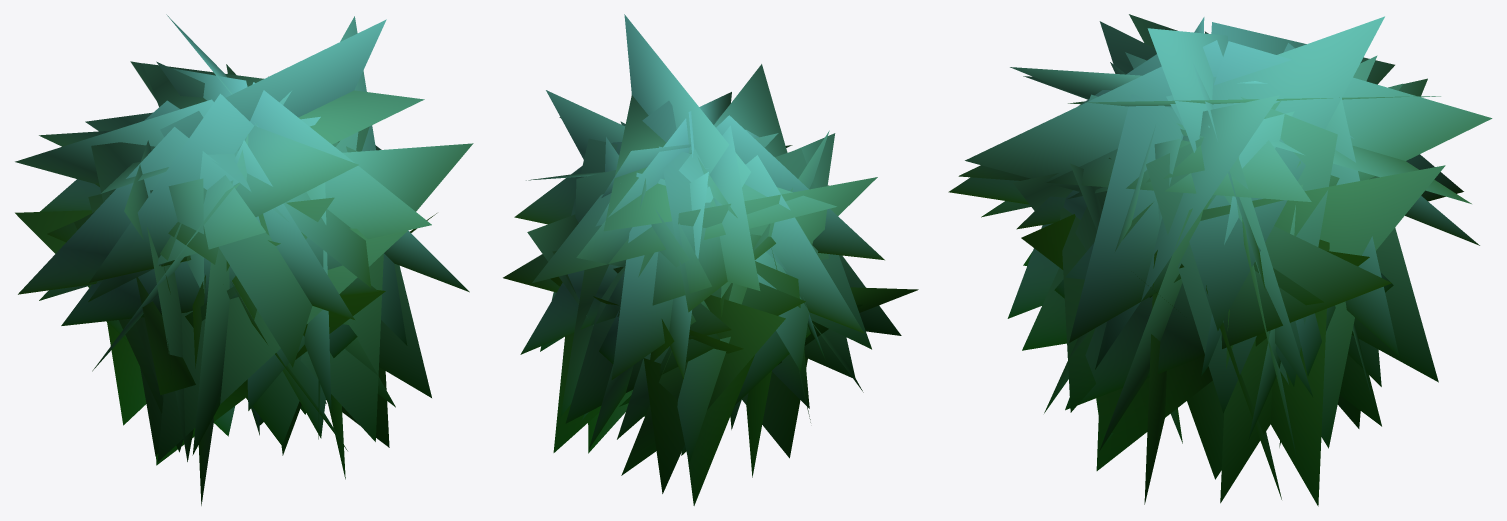
File: mesh_Bush_A.fbx
3 renders of one model, left to right at view 1: azimuth 30°, elevation 25°; view 2: azimuth 150°, elevation 25°; view 3: azimuth 270°, elevation 25°, orthographic. The views are drawn at different scales.
Visible parts, largest first — view 1: mesh_Bush_A; view 2: mesh_Bush_A; view 3: mesh_Bush_A.
Part boxes in pixels (x1,y1,x2,y2): mesh_Bush_A: (15,14,473,505); mesh_Bush_A: (503,14,918,505); mesh_Bush_A: (948,14,1492,506).
Size of the model in its own units: 2.15 by 2.3 by 2.29.
